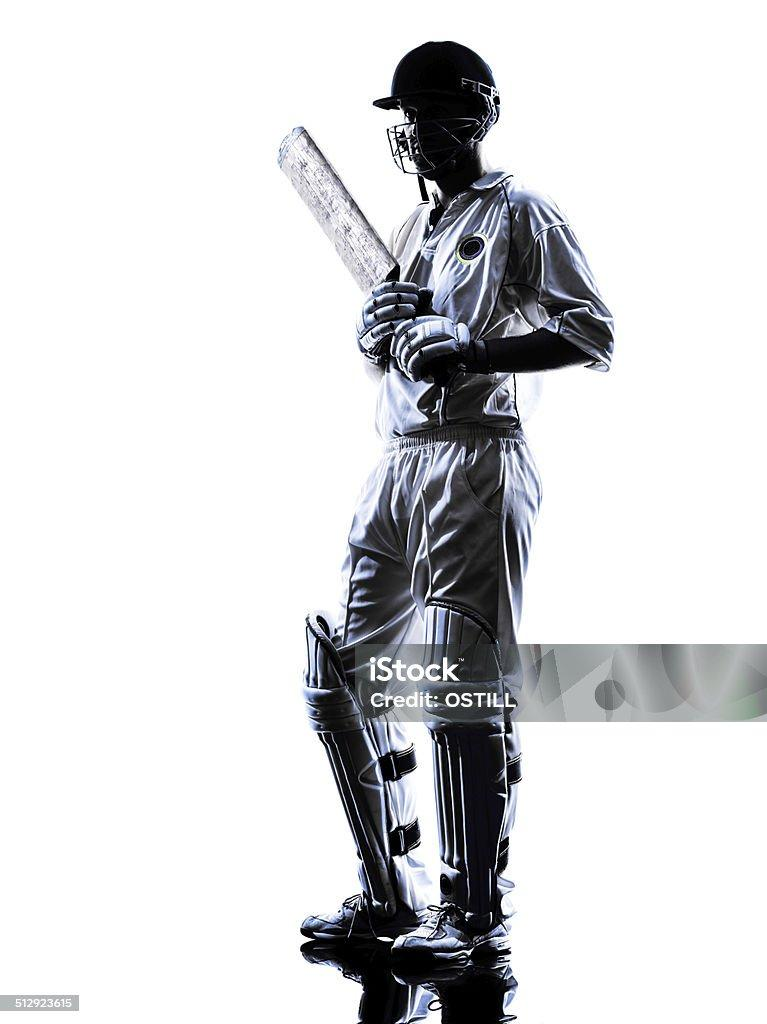batsman: (300, 40, 621, 986)
